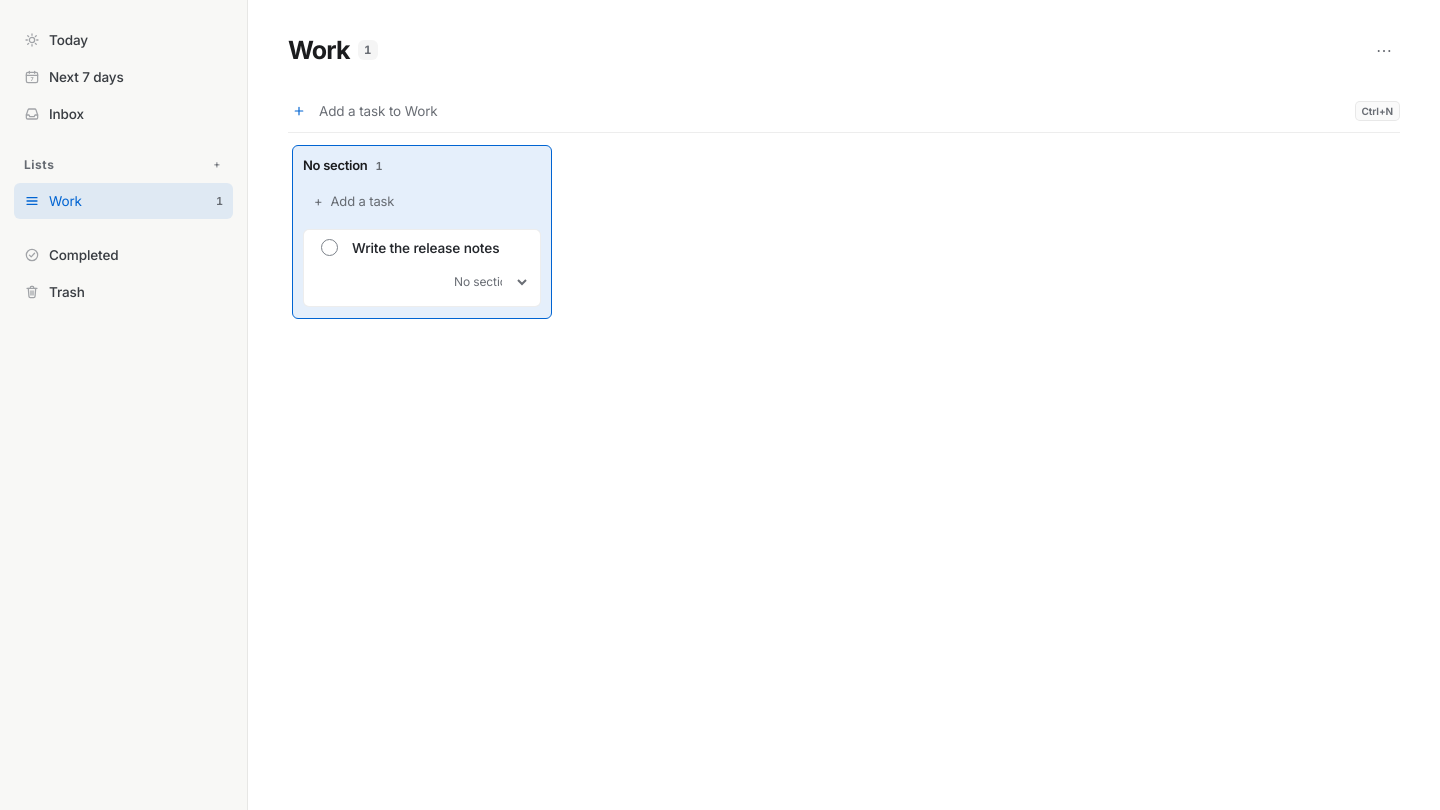
the Scope's menu › switches the view when one is chosen
Click the button named "View and options". click: (1384, 50)
box: x1=1368 y1=34 x2=1400 y2=66
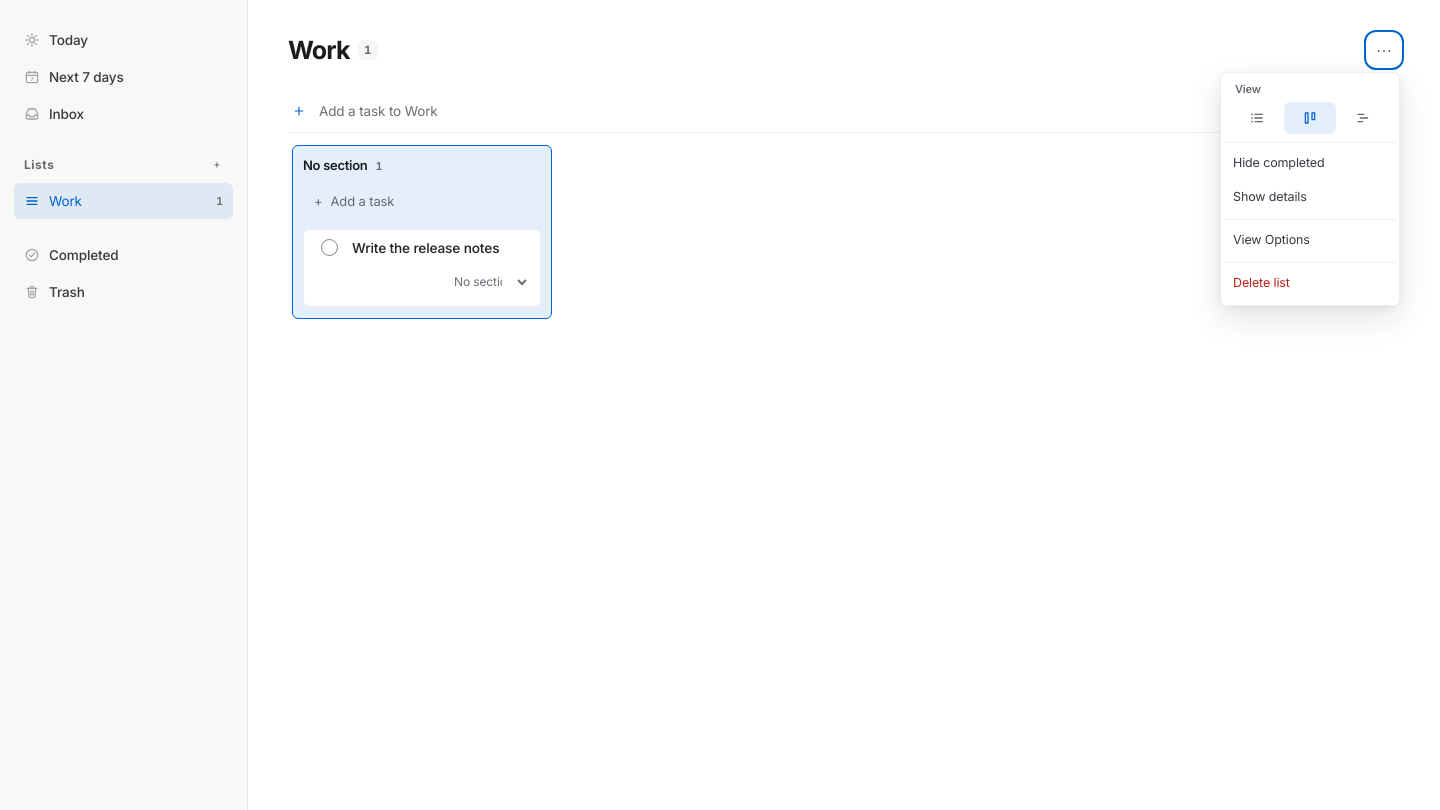
Click the menu item named "Timeline". click: (1363, 118)
box: x1=1338 y1=102 x2=1389 y2=134
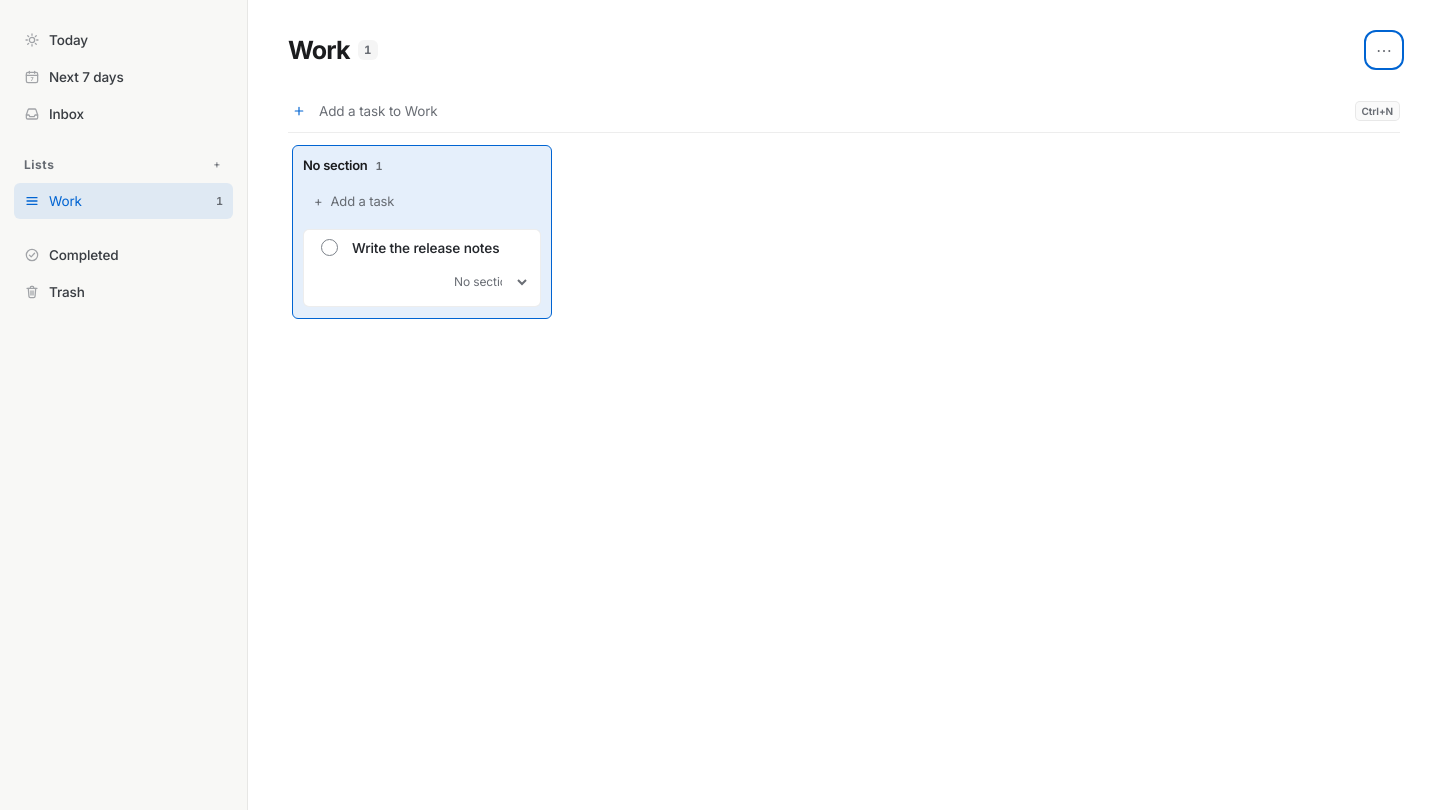
Now the menu is gone
